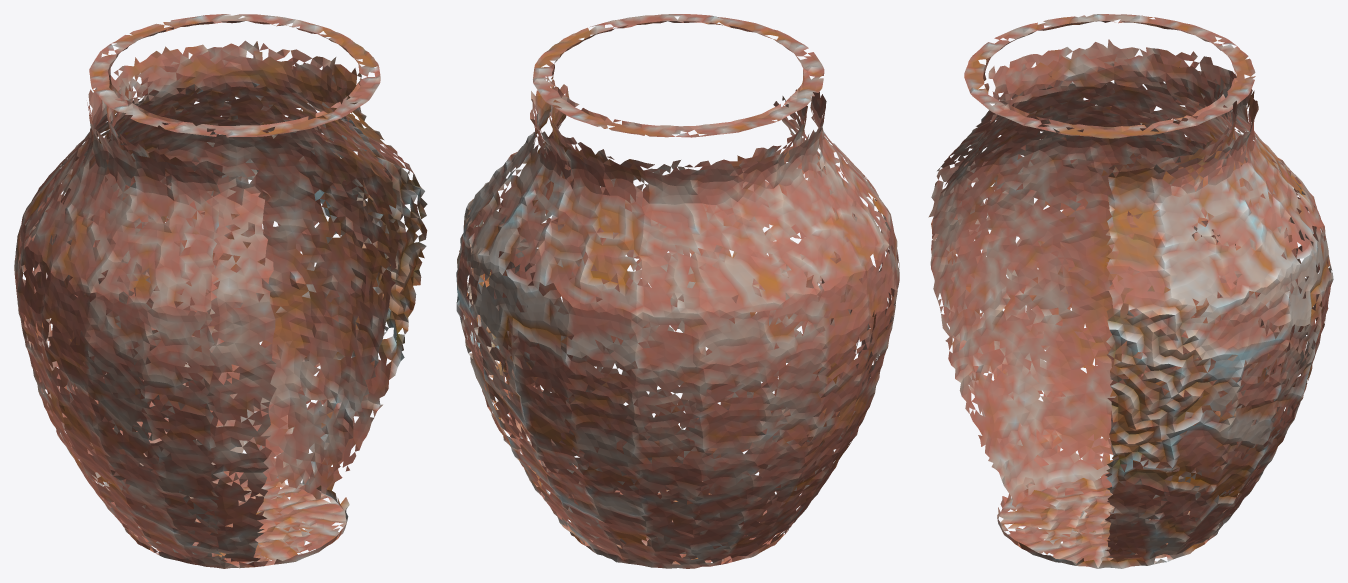
File: vase2_final300.obj
3 views of the same model, side by side, from view 1: azimuth 30°, elevation 25°; view 2: azimuth 150°, elevation 25°; view 3: azimuth 270°, elevation 25° (orthographic).
Size of the model in its own units: 1.5 by 1.69 by 1.37.
